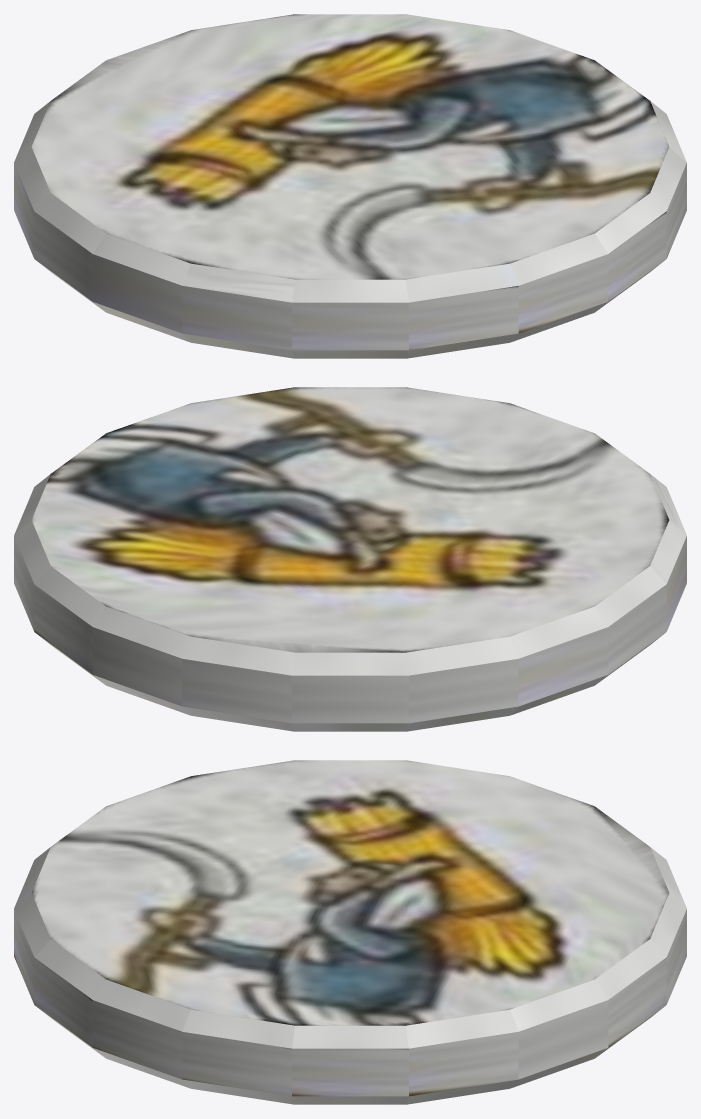
The model's file is peasant.glb.
3 views of the same model, one above another, from view 1: azimuth 30°, elevation 25°; view 2: azimuth 150°, elevation 25°; view 3: azimuth 270°, elevation 25° (orthographic).
Visible parts, largest first — view 1: Cylinder; view 2: Cylinder; view 3: Cylinder.
Boxes of the visible parts, box(x1,y1,x2,y2) form: Cylinder: box(14, 14, 686, 358); Cylinder: box(14, 387, 686, 731); Cylinder: box(14, 760, 686, 1104).
Size of the model in its own units: 1.97 by 0.2596 by 2.
Materials: 1 (1 with a texture image).
